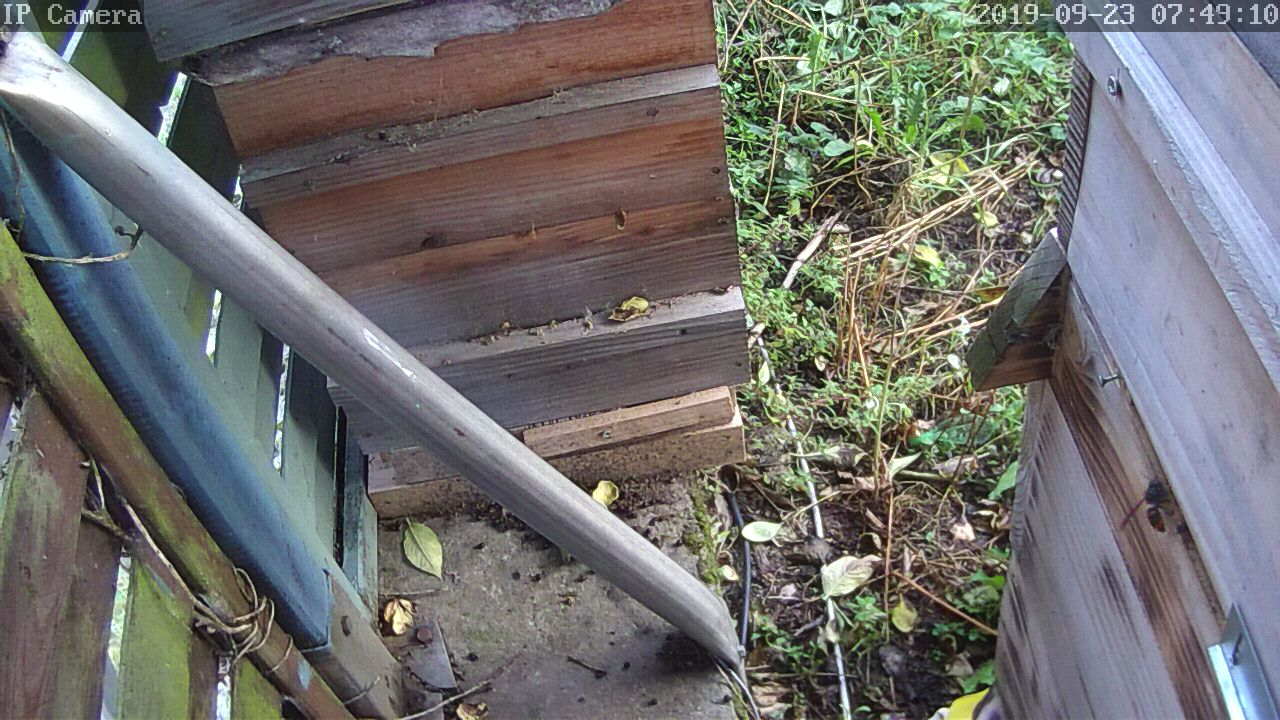bee: (1130, 467, 1183, 535)
